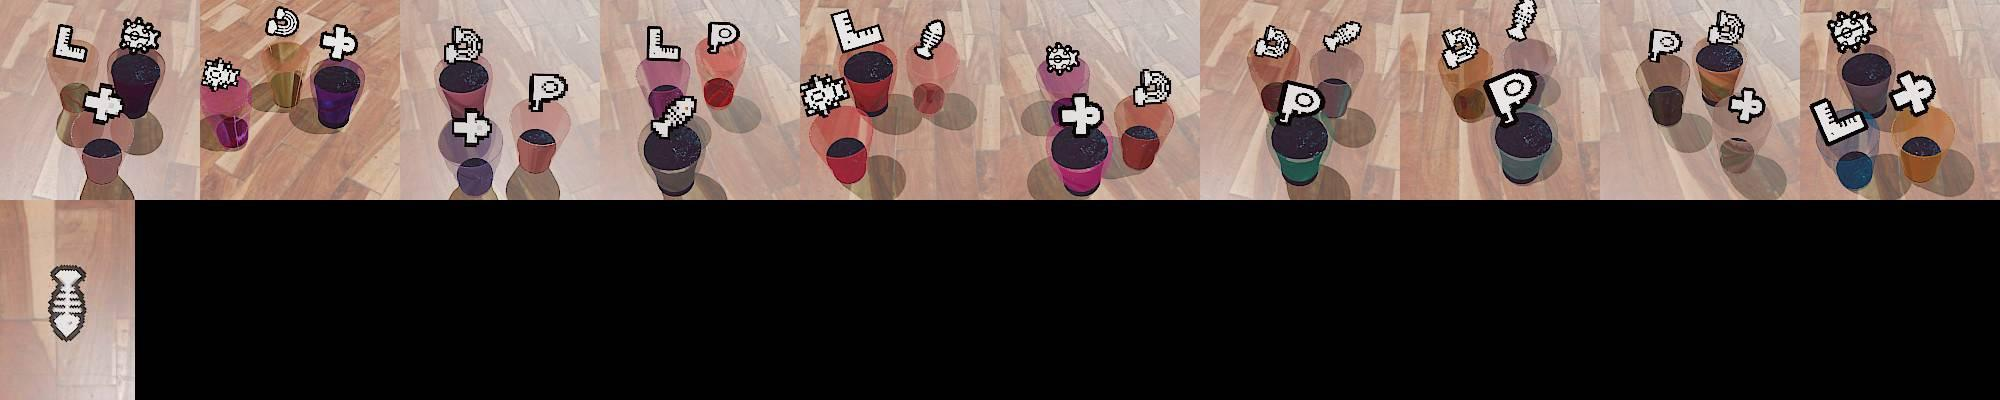icon: (46, 265, 88, 345), (1483, 69, 1541, 125), (1808, 96, 1870, 147), (828, 8, 885, 55), (799, 72, 851, 118), (1275, 79, 1325, 126), (650, 93, 699, 139), (1888, 71, 1937, 116), (1826, 10, 1876, 54), (1057, 91, 1103, 136), (82, 83, 126, 125), (1439, 26, 1480, 67), (442, 24, 483, 65), (1132, 67, 1172, 108), (528, 71, 568, 112), (1707, 9, 1746, 49), (119, 16, 161, 53), (451, 111, 493, 148), (320, 23, 358, 63), (52, 23, 89, 64), (1728, 86, 1766, 124), (645, 25, 682, 64), (200, 58, 241, 92), (1506, 0, 1539, 42), (913, 18, 946, 60), (1321, 21, 1362, 54), (1254, 24, 1291, 60), (263, 5, 300, 40), (706, 20, 741, 56), (1043, 41, 1080, 75), (1647, 28, 1683, 62)
